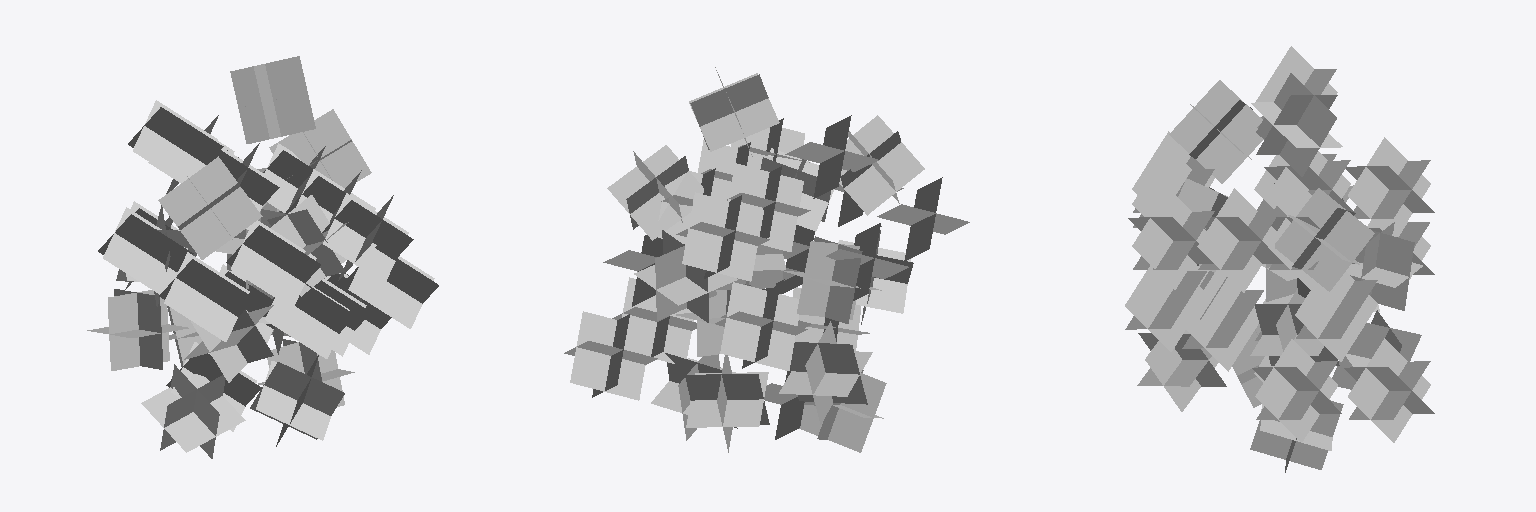
The model's file is sparks1.obj.
The picture shows the model from 3 angles: view 1: azimuth 30°, elevation 25°; view 2: azimuth 150°, elevation 25°; view 3: azimuth 270°, elevation 25°; orthographic projection.
Visible parts, largest first — view 1: Sparks1; view 2: Sparks1; view 3: Sparks1.
Part boxes in pixels (x1,y1,x2,y2): Sparks1: (87,56,438,458); Sparks1: (564,67,969,452); Sparks1: (1125,46,1434,472).
Bounding box in the file's own units: 3.05 × 3.65 × 2.78.